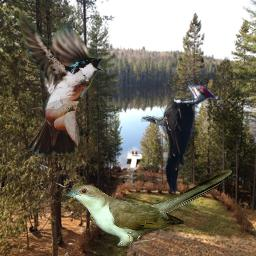Cuckoo: (62, 168, 232, 246)
Swallow: (13, 4, 104, 155)
Woodpecker: (141, 82, 217, 195)
